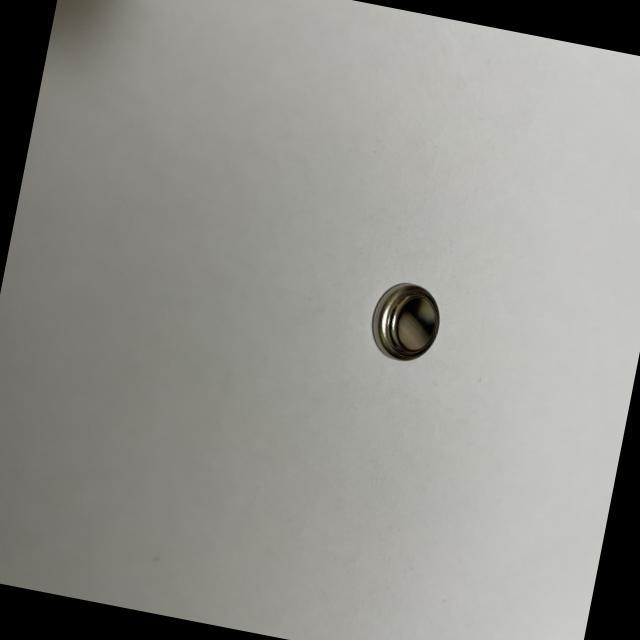COIN: (364, 278, 446, 368)
